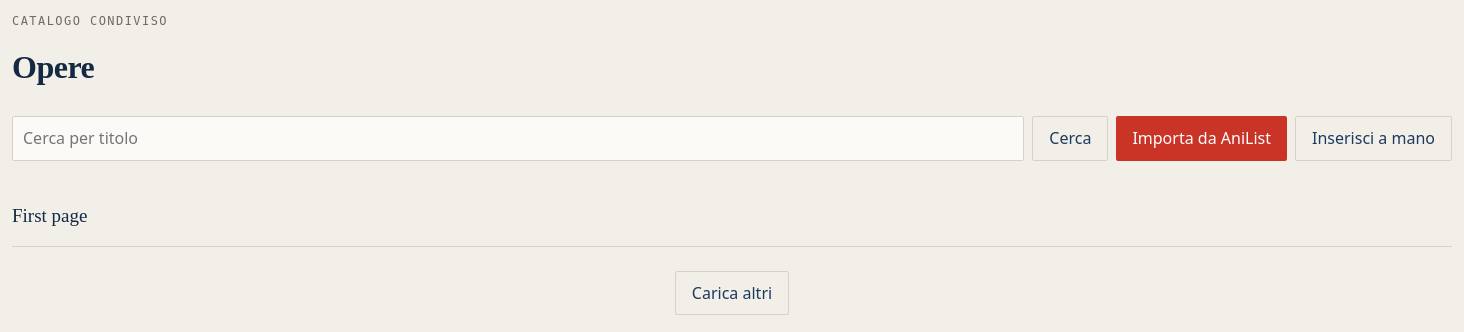
Library › appends every page when loading beyond the first 24 manga
Expected: the text "First page" is shown, [12, 201, 88, 230]
Click the button "Carica altri" at (732, 293), box [675, 271, 789, 315]
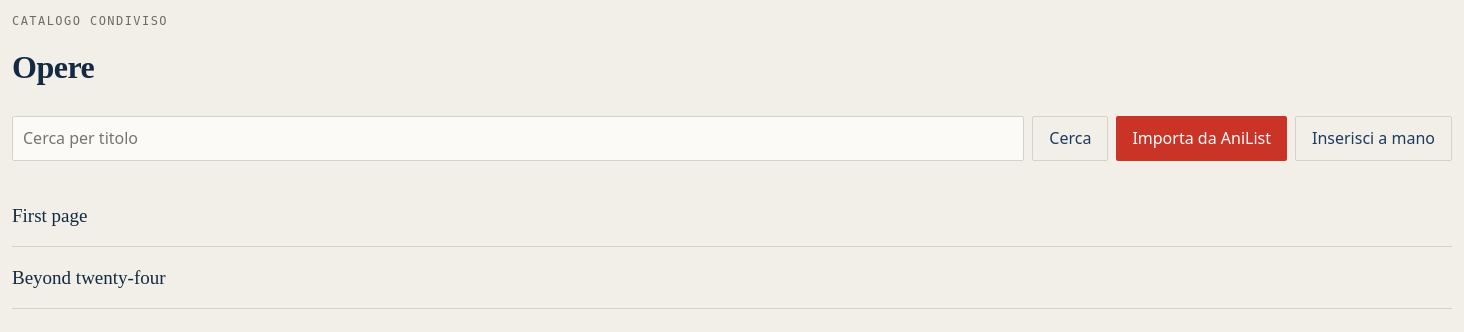
Expected: the text "First page" is shown, [12, 201, 88, 230]
Result: the text "Beyond twenty-four" is shown at [12, 263, 166, 292]
Result: the button "Carica altri" is gone
